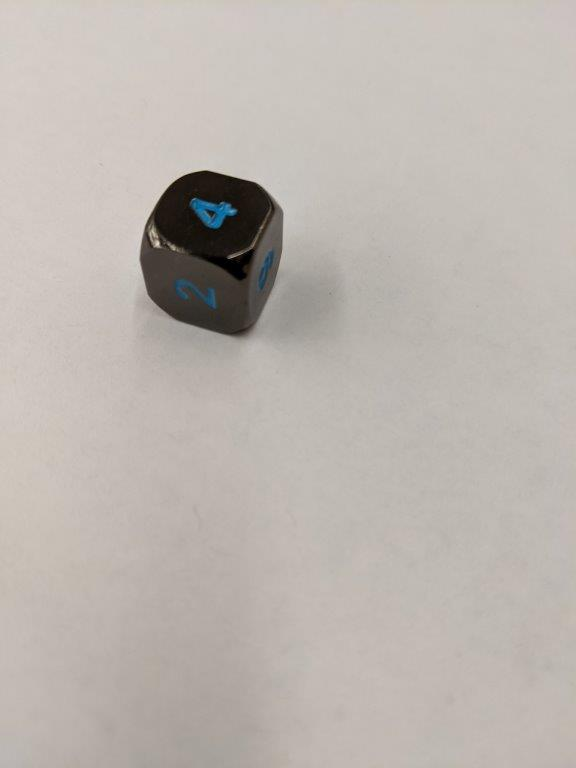d6-4: (139, 169, 284, 335)
